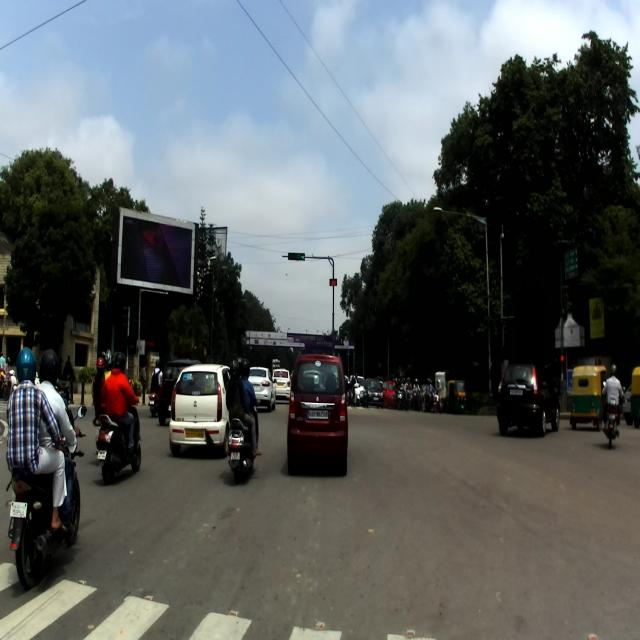autorickshaw: (569, 365, 608, 430), (446, 380, 467, 412)
car: (286, 353, 348, 475), (168, 362, 234, 458), (496, 360, 560, 436), (362, 378, 382, 407)
motorcycle: (5, 405, 86, 589), (602, 378, 626, 448)
scooter: (96, 398, 141, 484), (226, 396, 262, 483)
